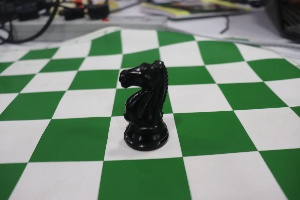black_horse: (113, 46, 175, 156)
